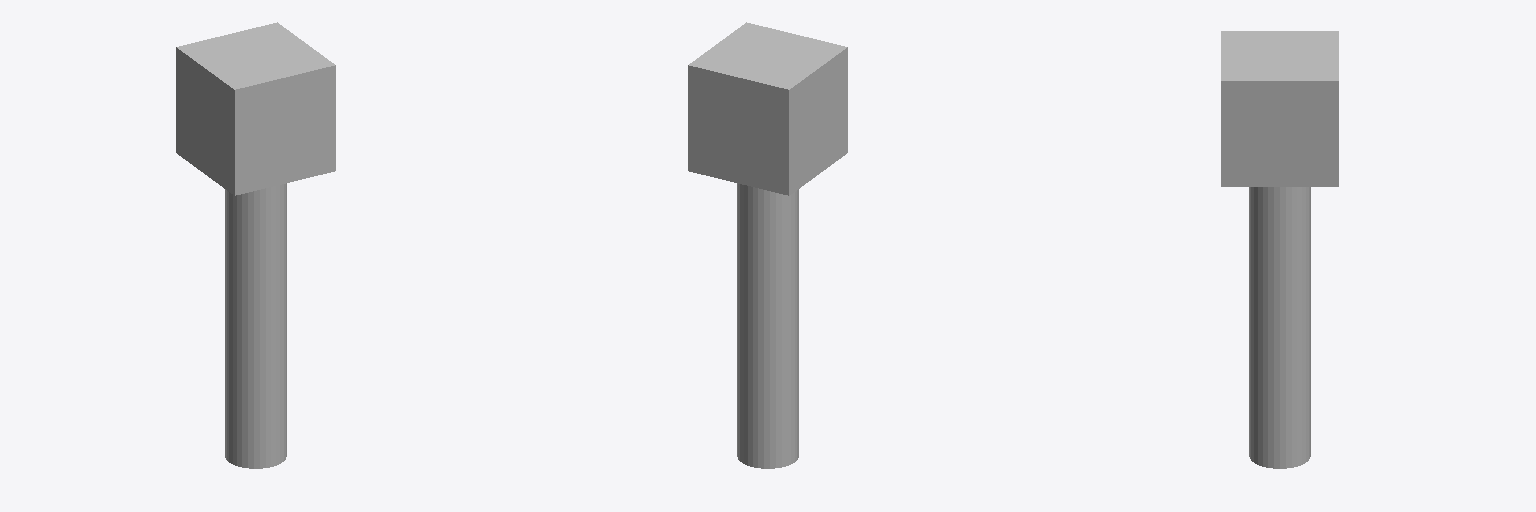
Rendered from gizmoscale.obj.
The picture shows the model from 3 angles: view 1: azimuth 30°, elevation 25°; view 2: azimuth 150°, elevation 25°; view 3: azimuth 270°, elevation 25°; orthographic projection.
Visible parts, largest first — view 1: Cylinder; view 2: Cylinder; view 3: Cylinder.
Part boxes in pixels (x1,y1,x2,y2): Cylinder: (176,22,335,468); Cylinder: (688,22,847,468); Cylinder: (1221,31,1338,468).
Bounding box in the file's own units: 1.38 × 5.2 × 1.38.